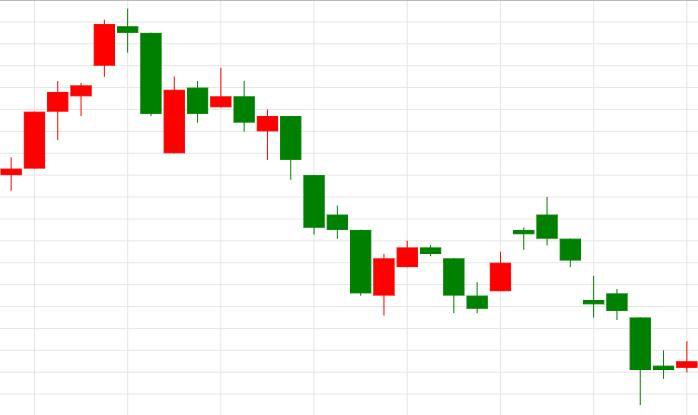evening_star_fall: (0, 9, 162, 191)
